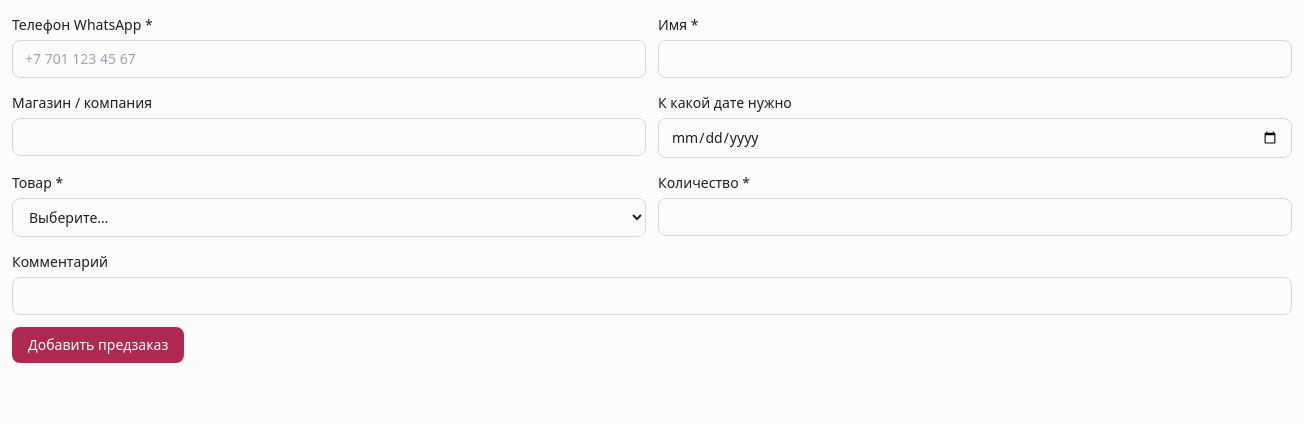
Test case: F2: қате болғанда формадағы мәндер сақталады › Предзаказ (қолмен): қатеде барлық өрістер сақталады, сәттіде тазаланады
In the field labelled "Телефон WhatsApp *": [329, 59] box [12,40,646,78], type "8 701 123 45 67"
In the field labelled "Имя *": [975, 59] box [658,40,1292,78], type "Айдана"
In the field labelled "Магазин / компания": [329, 137] box [12,118,646,156], type "Flower Shop"
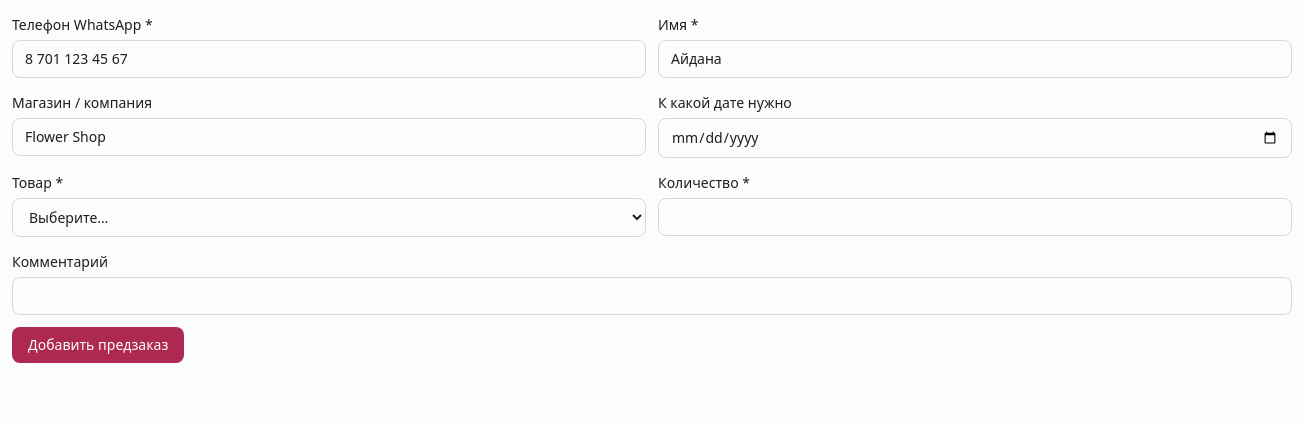
Select "Роза" in the dropdown labelled "Товар *": [329, 218] box [12,198,646,237]
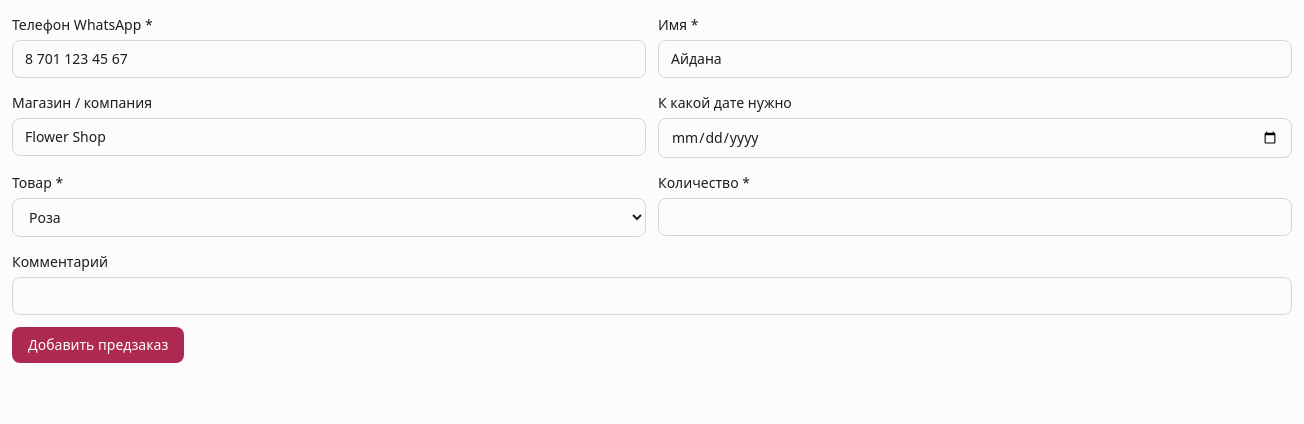
In the number field labelled "Количество *": [975, 217] box [658,198,1292,236], type "6"
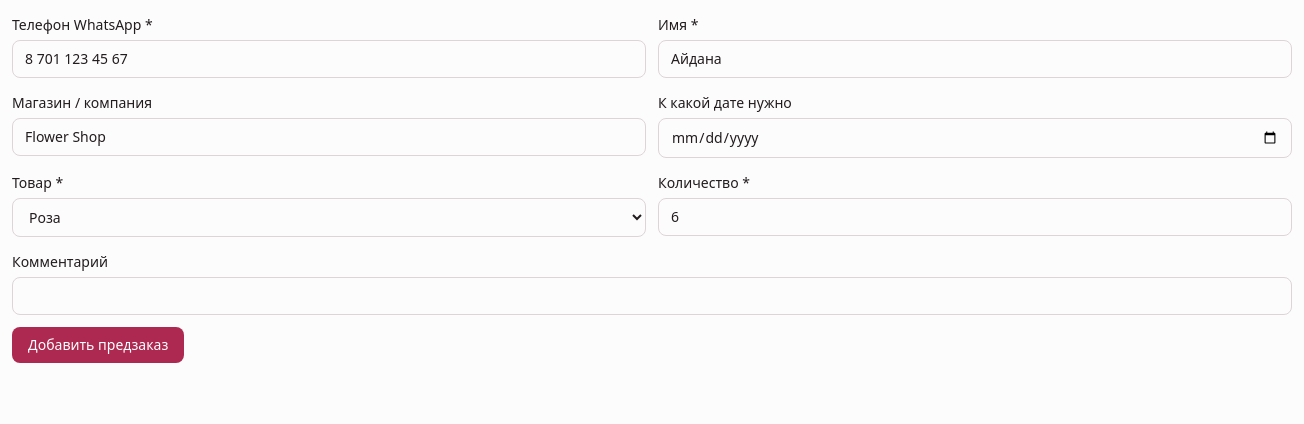
In the field labelled "Комментарий": [652, 296] box [12,277,1292,315], type "срочно"
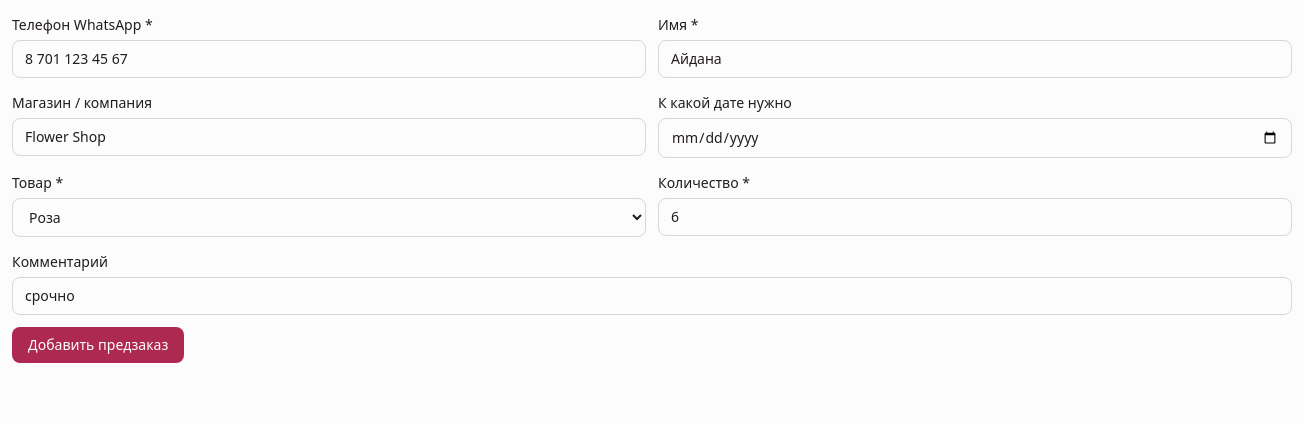
Submit the form
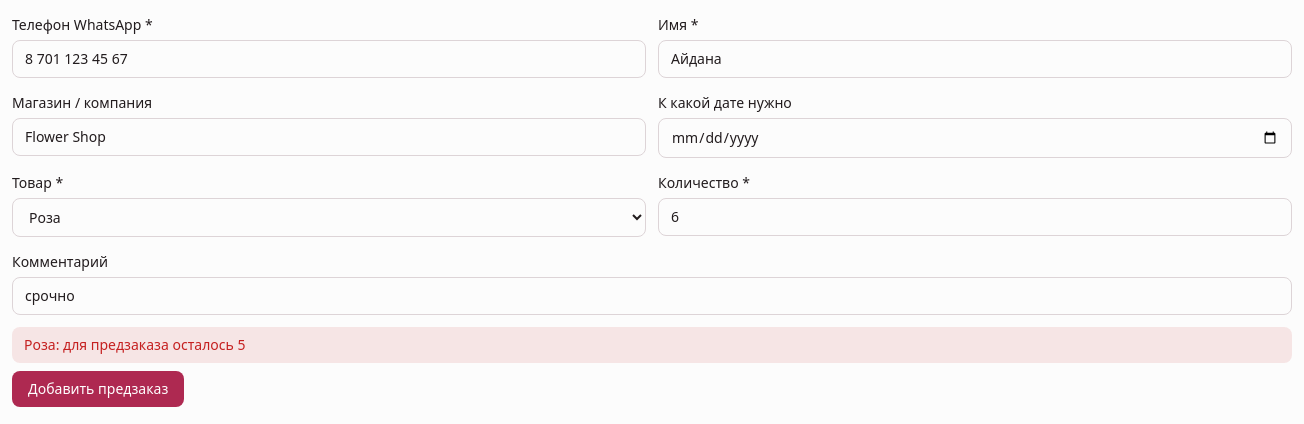
Expected: the text "Роза: для предзаказа осталось 5" is shown, [12,327,1292,363]
Submit the form
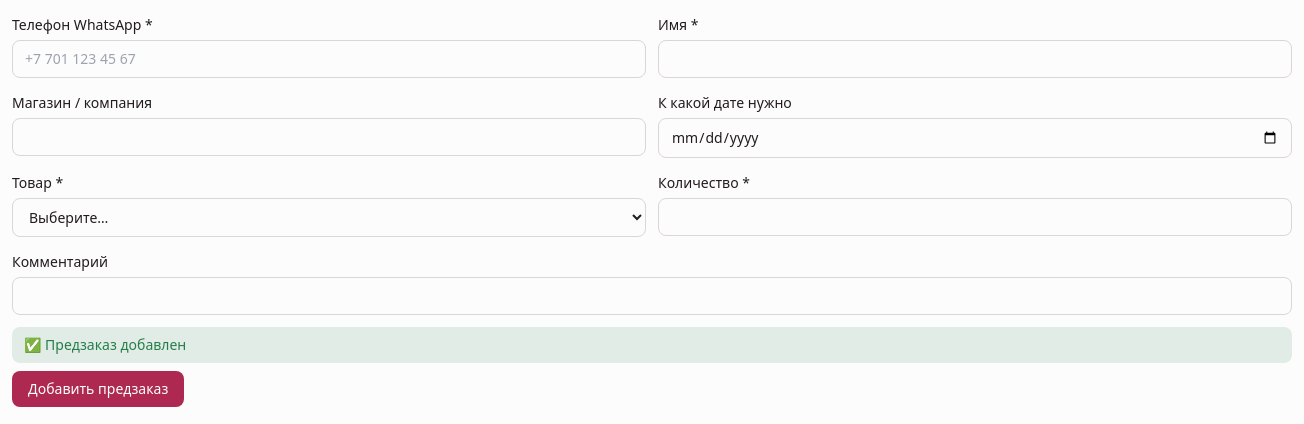
Expected: the text "✅ Предзаказ добавлен" is shown, [12,327,1292,363]
